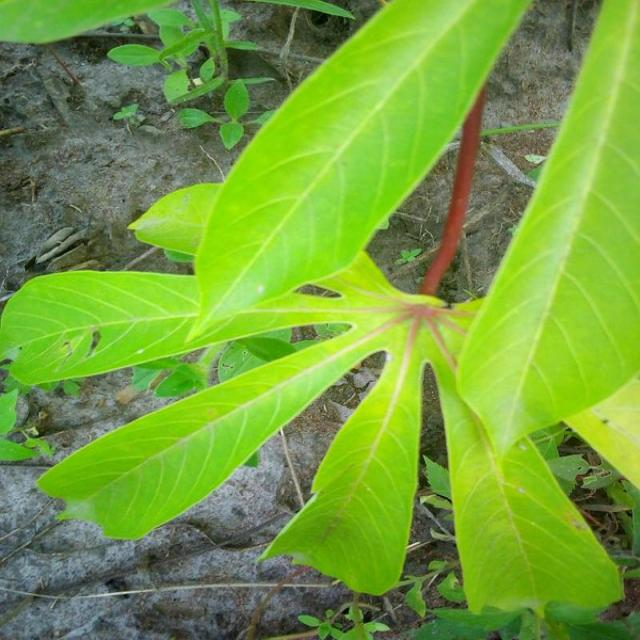cassava leaf: (1, 0, 638, 625), (183, 0, 533, 346), (454, 0, 639, 465)
